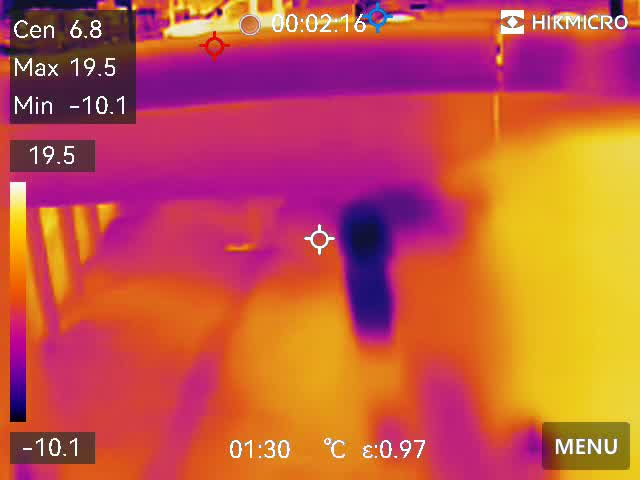lightTruck: (158, 1, 337, 35)
